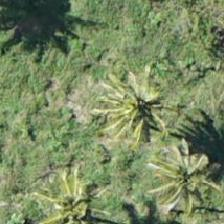coconut_tree: (89, 57, 179, 147), (138, 133, 223, 223), (28, 155, 118, 223), (26, 166, 116, 223)
